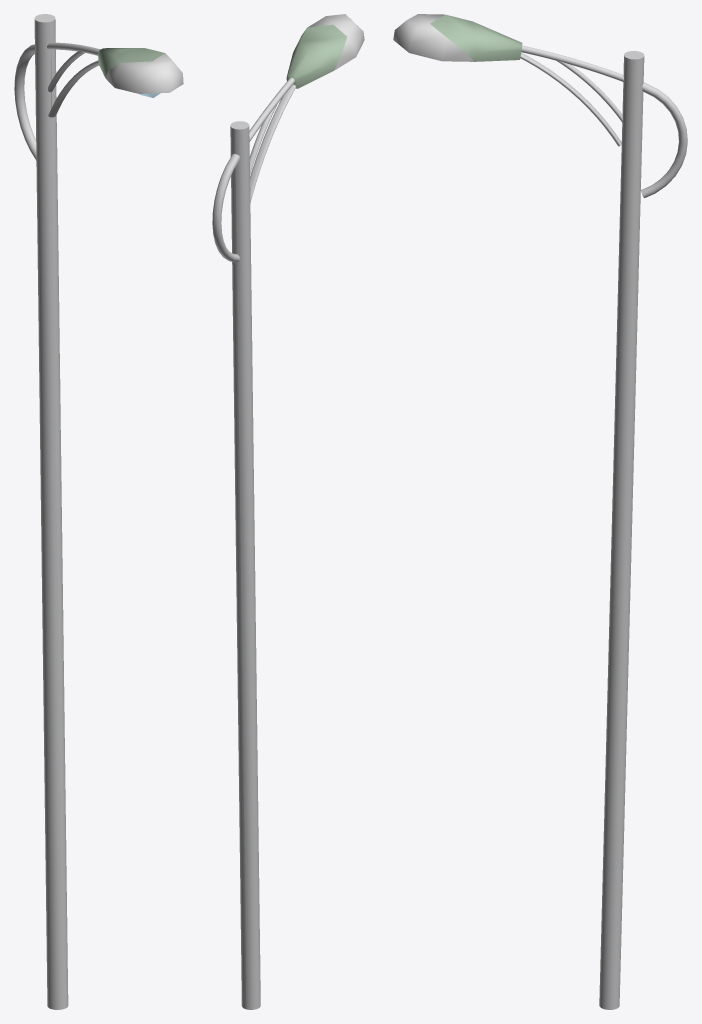
The model's file is lamp.gltf.
The picture shows the model from 3 angles, left to right: view 1: azimuth 30°, elevation 25°; view 2: azimuth 150°, elevation 25°; view 3: azimuth 270°, elevation 25°; orthographic projection. The views are drawn at different scales.
Visible parts, largest first — view 1: group_0, ID12, ID30; view 2: group_0, ID30, ID12; view 3: group_0, ID30, ID12.
Part boxes in pixels (x1,y1,x2,y2): group_0: [14, 14, 99, 1009]; ID12: [105, 53, 183, 93]; ID30: [98, 48, 164, 77]; group_0: [212, 77, 295, 1009]; ID30: [286, 24, 346, 88]; ID12: [296, 14, 364, 70]; group_0: [520, 45, 687, 1009]; ID30: [430, 14, 522, 61]; ID12: [393, 14, 473, 61].
Bounding box in the file's own units: 0.9185 × 14.87 × 4.03.
